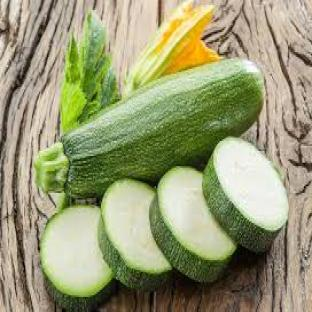Zucchini: (36, 59, 263, 197), (151, 168, 236, 281), (204, 138, 289, 251), (98, 180, 170, 290), (41, 207, 113, 310)
